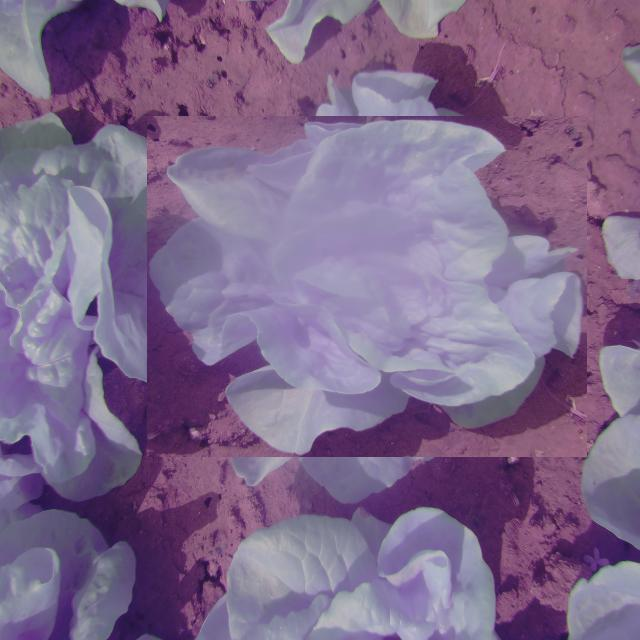vege: (172, 91, 562, 482)
